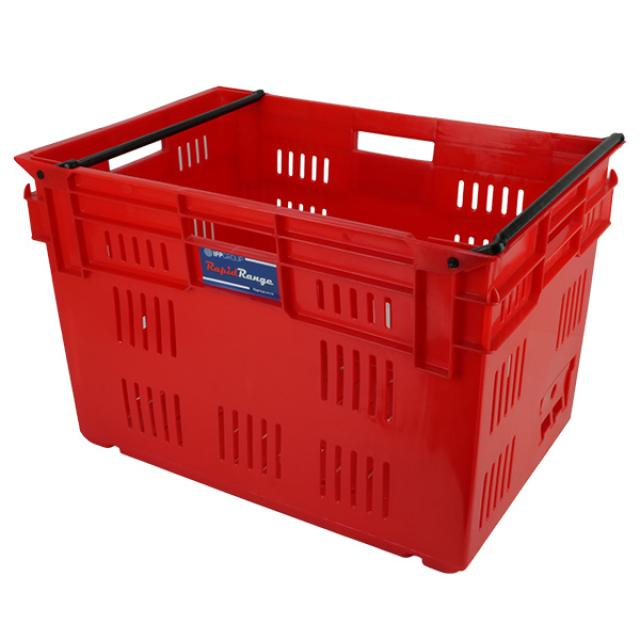basket: (0, 65, 626, 586)
